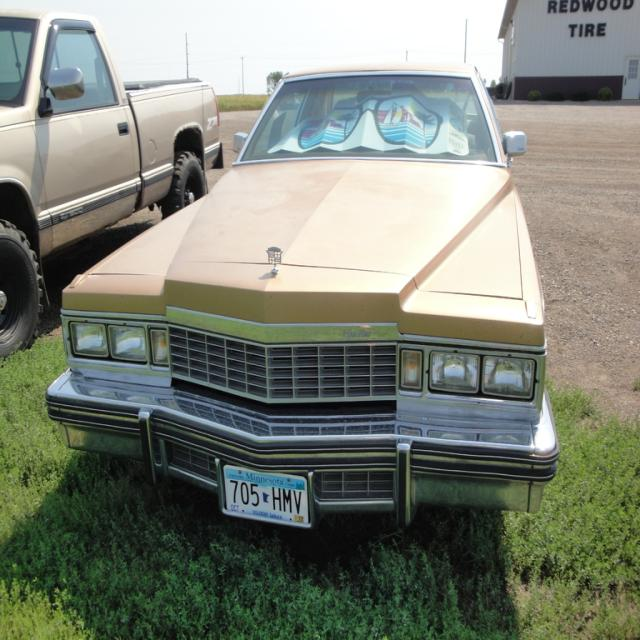car: (51, 60, 560, 559)
